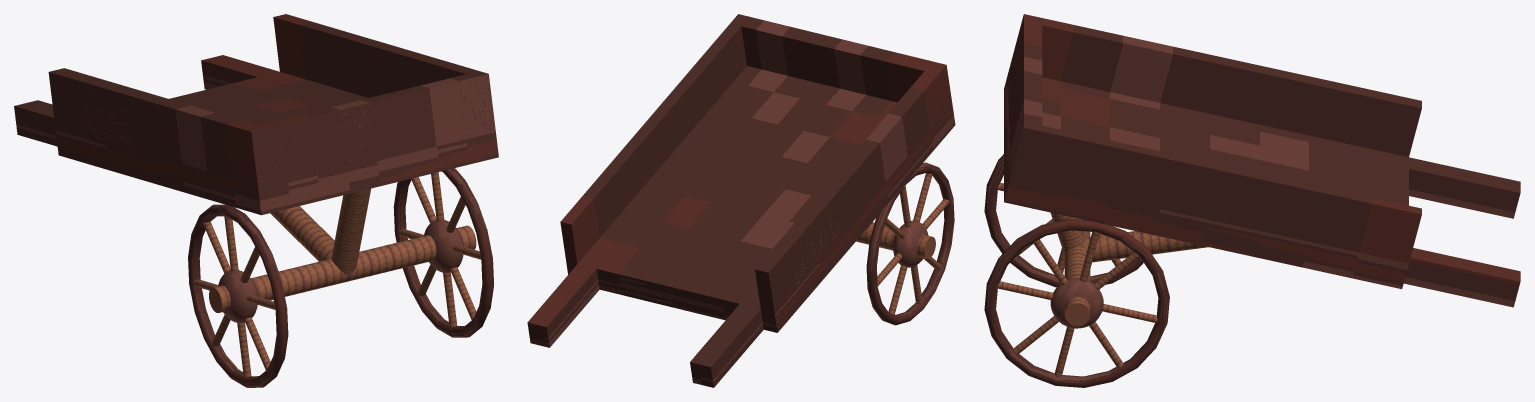
File: Cart.fbx
3 views of the same model, side by side, from view 1: azimuth 30°, elevation 25°; view 2: azimuth 150°, elevation 25°; view 3: azimuth 270°, elevation 25° (orthographic). The views are drawn at different scales.
Visible parts, largest first — view 1: CartBack, CartOrigin, Wheel1, Wheel2, Wheel_Interior (×2), CartBrace2, WheelBrace4 (×2), CartBrace, WheelBrace3 (×2), WheelBrace (×2), WheelBrace2 (×2), WheelBrace1; view 2: CartBack, Wheel1, Wheel_Interior, CartOrigin, WheelBrace3, WheelBrace1; view 3: CartBack, Wheel2, Wheel1, CartBrace, Wheel_Interior, CartOrigin, WheelBrace1, WheelBrace4, WheelBrace3, CartBrace2, WheelBrace, WheelBrace2.
Boxes of the visible parts, x1,y1,x2,y2 form: CartBack: (14,14,498,215); CartOrigin: (209,225,476,312); Wheel1: (188,204,288,387); Wheel2: (393,168,493,337); Wheel_Interior (×2): (218,220,463,323); CartBrace2: (331,188,370,275); WheelBrace4 (×2): (203,177,476,370); CartBrace: (270,206,334,261); WheelBrace3 (×2): (212,196,465,346); WheelBrace (×2): (224,174,457,378); WheelBrace2 (×2): (224,172,449,378); WheelBrace1: (193,279,275,309); CartBack: (527,14,955,387); Wheel1: (866,162,954,325); Wheel_Interior: (893,220,928,267); CartOrigin: (856,222,935,258); WheelBrace3: (888,173,932,315); WheelBrace1: (877,199,949,286); CartBack: (1004,14,1520,307); Wheel2: (984,219,1169,387); Wheel1: (984,154,1143,287); CartBrace: (1082,231,1208,262); Wheel_Interior: (1050,278,1103,328); CartOrigin: (1064,219,1090,326); WheelBrace1: (997,281,1157,322); WheelBrace4: (1013,252,1139,354); WheelBrace3: (1033,239,1123,367); CartBrace2: (1050,212,1085,255); WheelBrace: (1054,232,1099,377); WheelBrace2: (1058,232,1096,377).
Size of the model in its own units: 913 by 937 by 1697.
3 materials, 3 textured.
